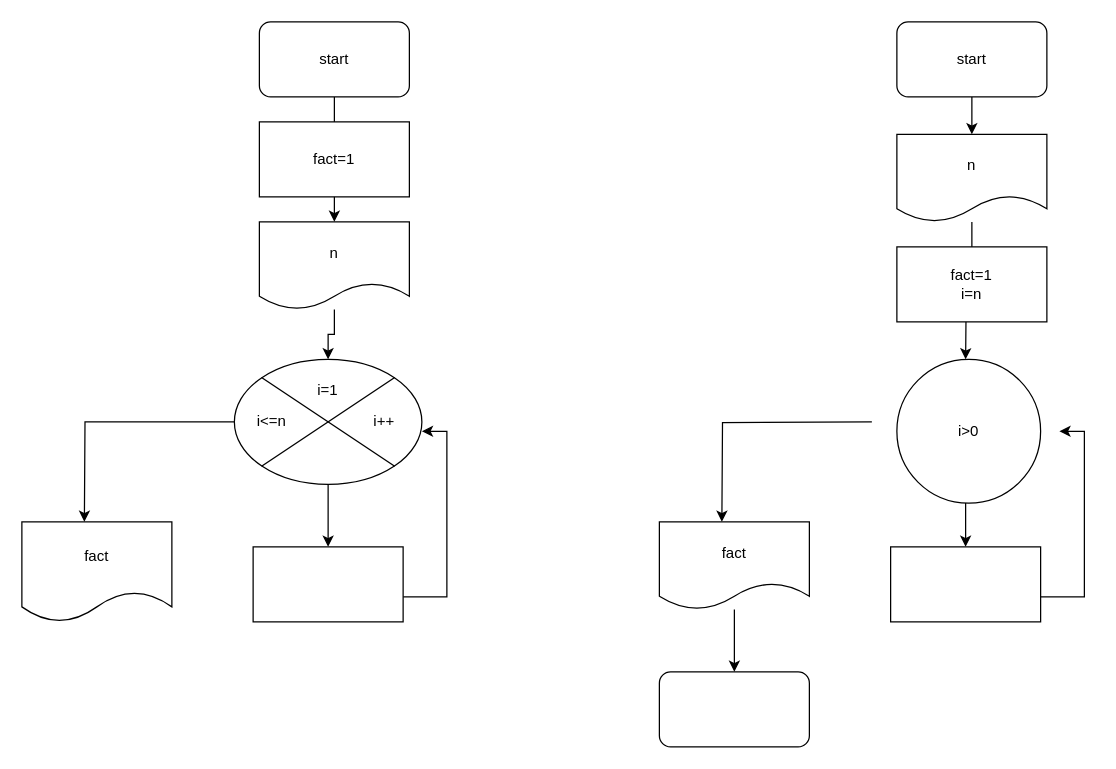
Some shapes in this 1116 by 769 pixel diagram are drawn without their labels. The centre of each missing label's shape, as x and y in pixels:
"fact=fact*i" goes at point (327, 584).
"fact=fact*i i--" goes at point (965, 584).
"stop" goes at point (733, 709).
